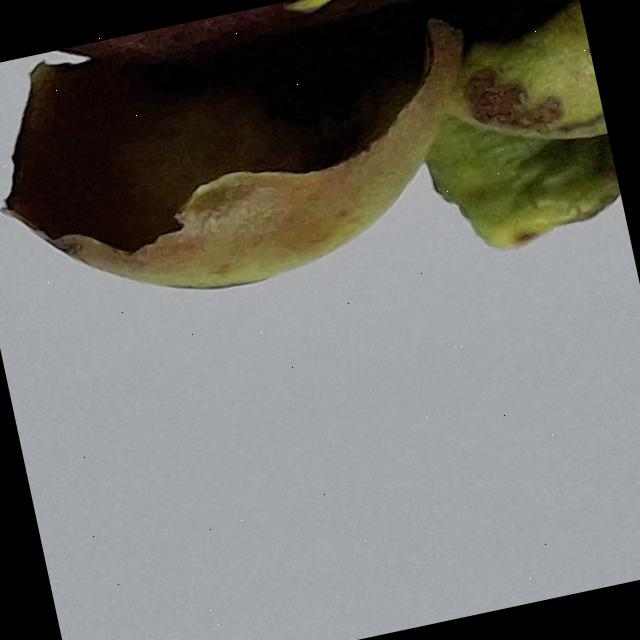mangosteen: (0, 0, 637, 406)
